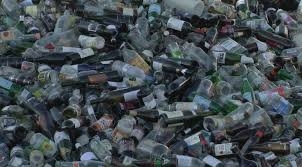glass: (160, 104, 222, 129), (90, 83, 145, 107), (250, 26, 296, 52), (118, 43, 152, 78), (246, 137, 297, 157), (24, 49, 71, 69), (210, 47, 257, 66), (147, 55, 189, 76), (164, 15, 207, 35), (1, 70, 36, 90), (52, 126, 73, 159), (238, 75, 259, 108), (74, 142, 102, 166)
